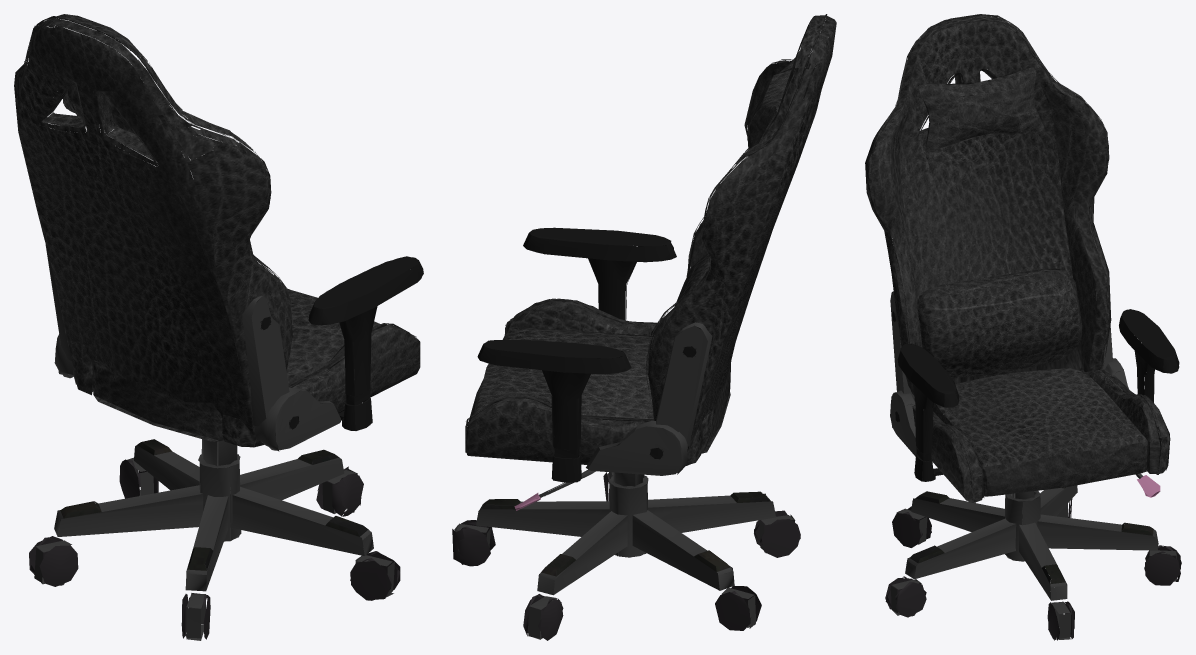
The model's file is gaming_chair.glb.
3 views of the same model, side by side, from view 1: azimuth 30°, elevation 25°; view 2: azimuth 150°, elevation 25°; view 3: azimuth 270°, elevation 25° (orthographic). The views are drawn at different scales.
Visible parts, largest first — view 1: chair_upper, chair_base; view 2: chair_upper, chair_base; view 3: chair_upper, chair_base.
Boxes of the visible parts, box(x1,y1,x2,y2) form: chair_upper: box(14, 14, 423, 468); chair_base: box(29, 439, 400, 640); chair_upper: box(465, 14, 836, 510); chair_base: box(452, 472, 800, 640); chair_upper: box(865, 14, 1179, 507); chair_base: box(885, 485, 1181, 640).
Size of the model in its own units: 0.7774 by 1.26 by 0.7294.
7 materials, 3 textured.
